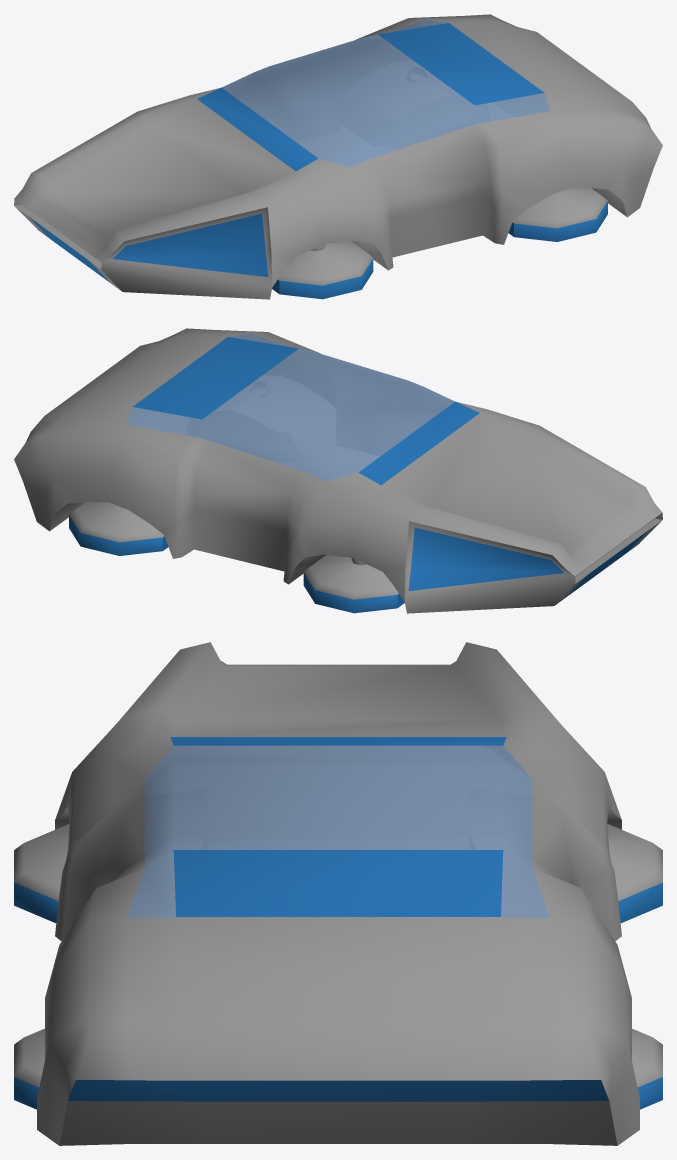
Rendered from car 1.fbx.
3 renders of one model, top to bottom at view 1: azimuth 30°, elevation 25°; view 2: azimuth 150°, elevation 25°; view 3: azimuth 270°, elevation 25°, orthographic. The views are drawn at different scales.
Parts seen in each view (by area): view 1: car; view 2: car; view 3: car.
Boxes of the visible parts, x1,y1,x2,y2 form: car: (14,14,662,299); car: (14,328,662,613); car: (14,642,662,1145).
Size of the model in its own units: 5.31 by 1.09 by 3.26.
